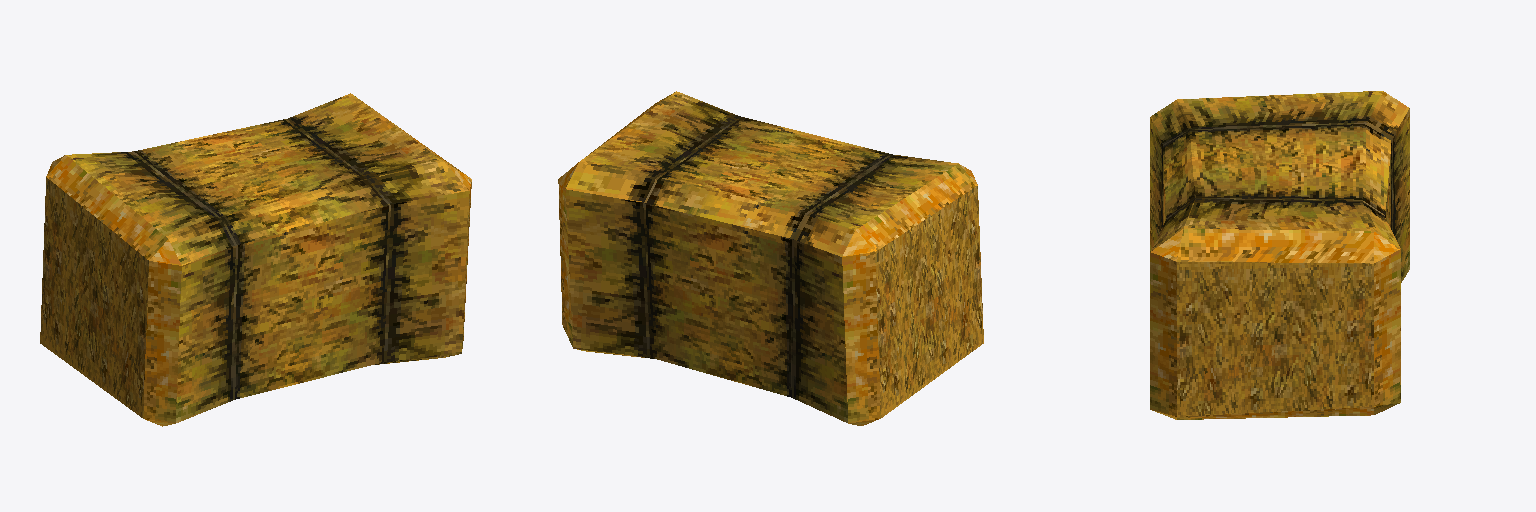
3 renders of one model, left to right at view 1: azimuth 30°, elevation 25°; view 2: azimuth 150°, elevation 25°; view 3: azimuth 270°, elevation 25°, orthographic.
Parts seen in each view (by area): view 1: bails_hay; view 2: bails_hay; view 3: bails_hay.
Part boxes in pixels (x1,y1,x2,y2): bails_hay: (40,93,471,426); bails_hay: (558,91,983,425); bails_hay: (1150,91,1409,419).
Size of the model in its own units: 5.86 by 3.32 by 4.
Materials: 1 (1 with a texture image).